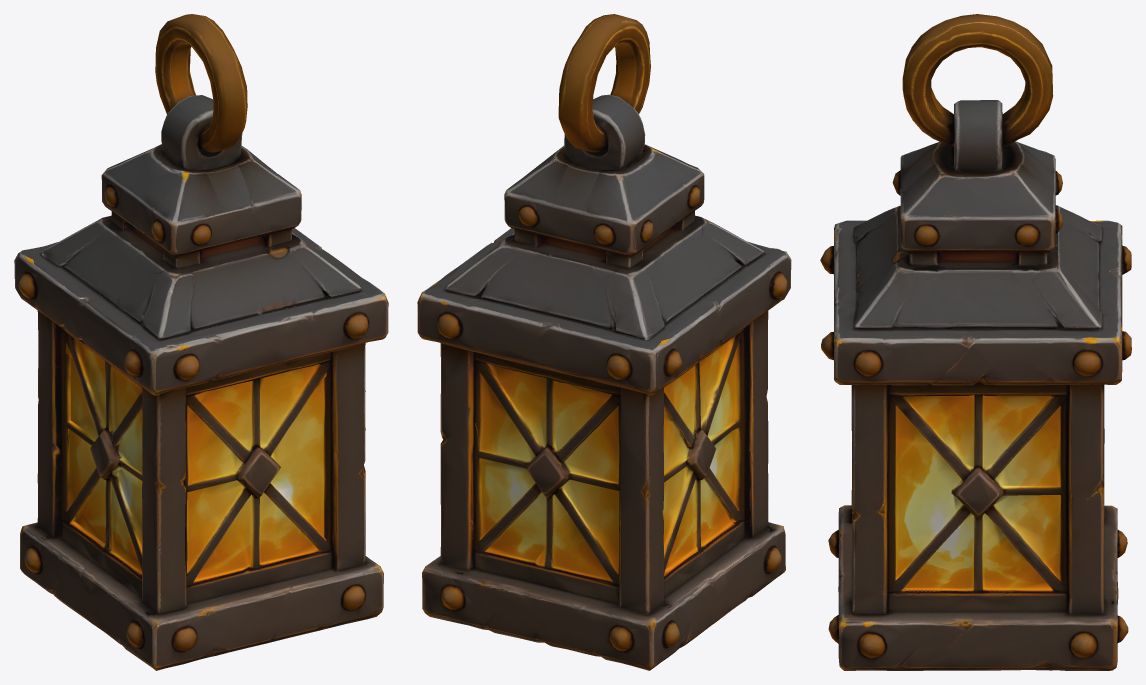
File: lantern.glb
3 renders of one model, left to right at view 1: azimuth 30°, elevation 25°; view 2: azimuth 150°, elevation 25°; view 3: azimuth 270°, elevation 25°, orthographic. The views are drawn at different scales.
Parts seen in each view (by area): view 1: tripo_node_a5e5fb70-147e-443c-9a6a-7108b842fdc8; view 2: tripo_node_a5e5fb70-147e-443c-9a6a-7108b842fdc8; view 3: tripo_node_a5e5fb70-147e-443c-9a6a-7108b842fdc8.
Part boxes in pixels (x1,y1,x2,y2): tripo_node_a5e5fb70-147e-443c-9a6a-7108b842fdc8: (14, 14, 388, 670); tripo_node_a5e5fb70-147e-443c-9a6a-7108b842fdc8: (417, 14, 791, 670); tripo_node_a5e5fb70-147e-443c-9a6a-7108b842fdc8: (820, 14, 1131, 670).
Size of the model in its own units: 0.4666 by 1 by 0.4724.
1 material, 1 textured.
